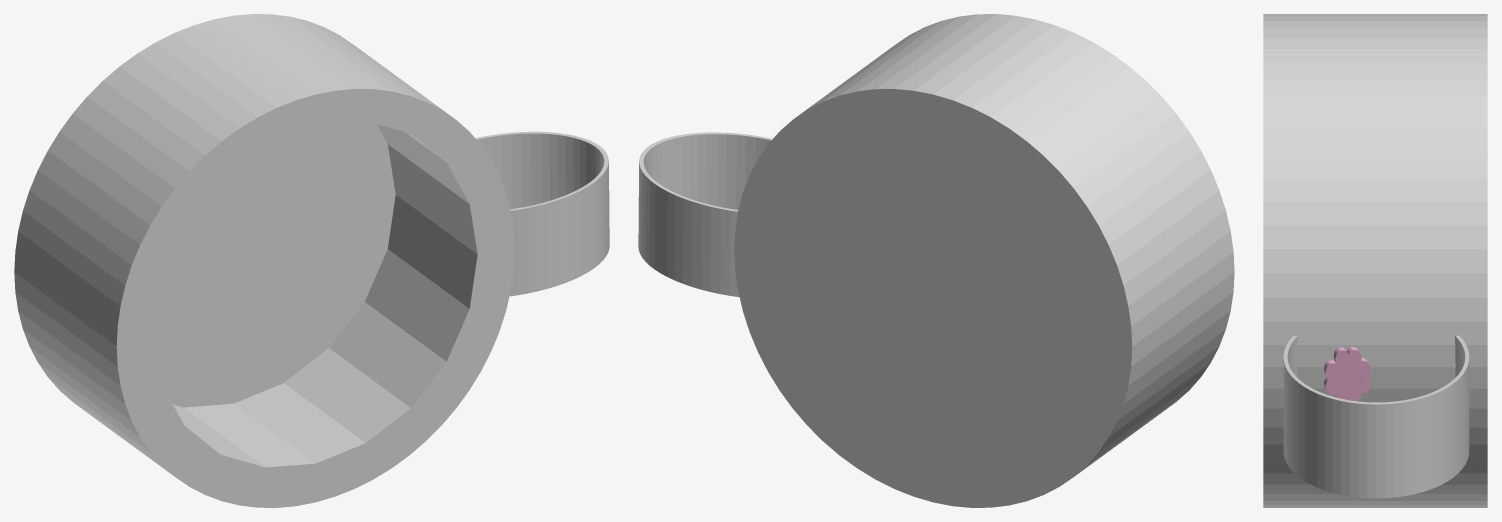
The model's file is tinker.obj.
3 renders of one model, left to right at view 1: azimuth 30°, elevation 25°; view 2: azimuth 150°, elevation 25°; view 3: azimuth 270°, elevation 25°, orthographic. The views are drawn at different scales.
Parts seen in each view (by area): view 1: group_0_16448250; view 2: group_0_16448250; view 3: group_0_16448250, group_0_15708628.
Boxes of the visible parts, box(x1,y1,x2,y2) form: group_0_16448250: box(14, 14, 609, 507); group_0_16448250: box(638, 14, 1234, 507); group_0_16448250: box(1263, 14, 1487, 507); group_0_15708628: box(1324, 347, 1370, 401).
Size of the model in its own units: 57.88 by 42.13 by 19.17.
